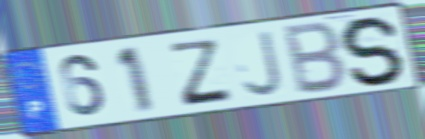1: (115, 44, 157, 115)
6: (58, 52, 109, 121)
B: (283, 20, 349, 98)
J: (240, 28, 286, 99)
S: (339, 14, 409, 88)
Z: (168, 38, 235, 108)
